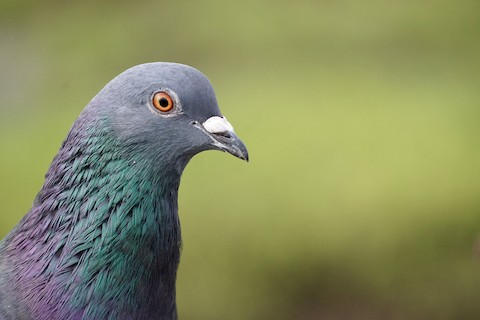pigeon: (5, 60, 251, 310)
